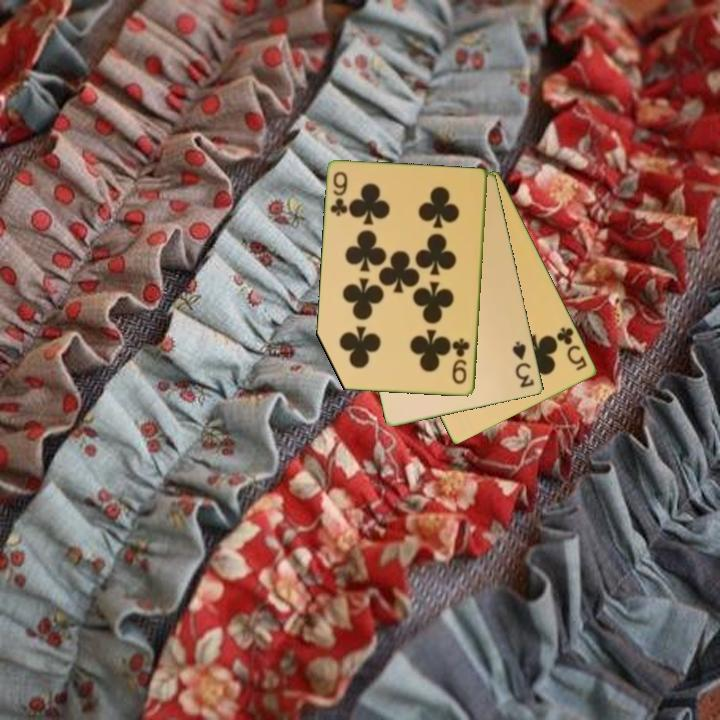3s: (509, 338, 537, 391)
5c: (553, 324, 590, 374)
9c: (449, 335, 473, 387), (327, 168, 351, 219)
